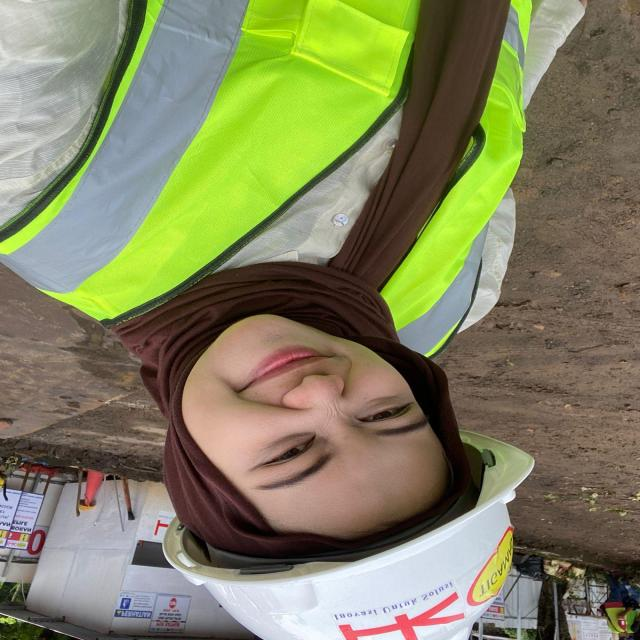safetyhelmet: (95, 292, 547, 632)
